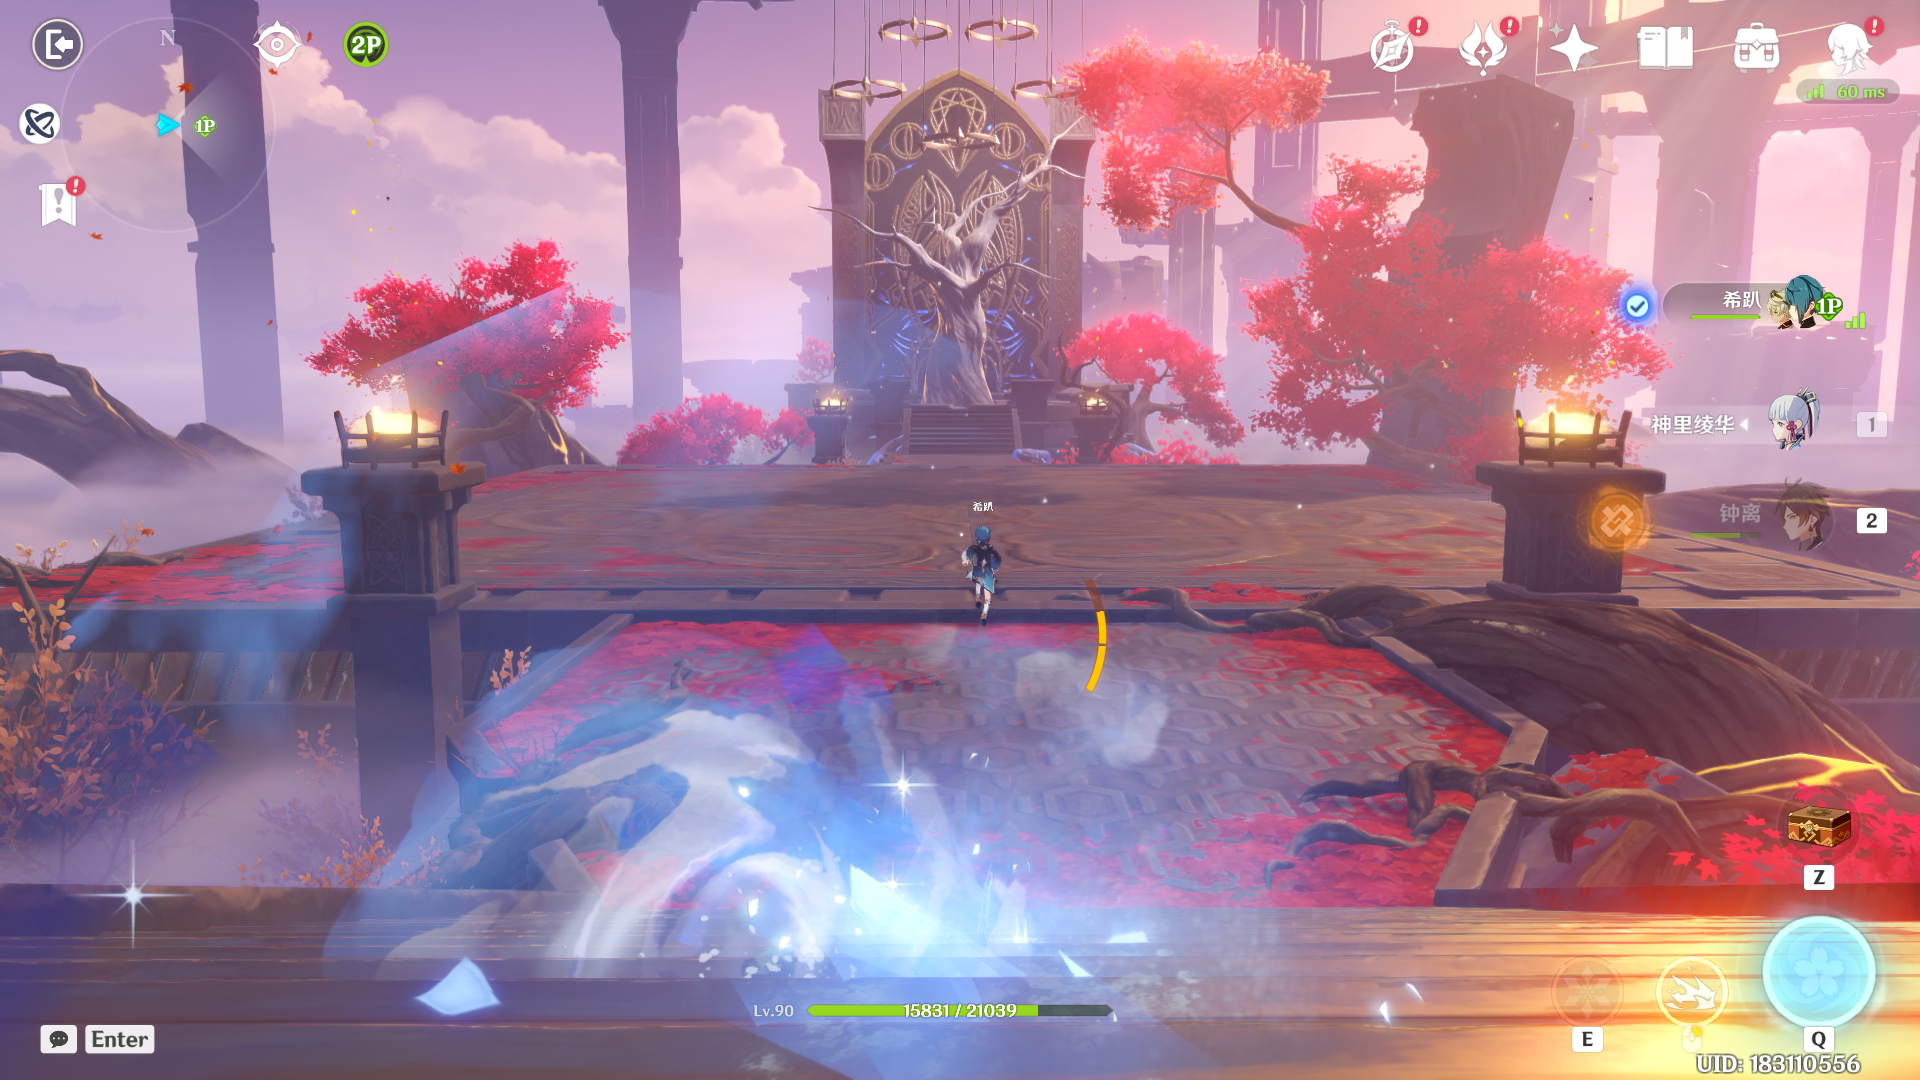character: (945, 514, 1026, 640)
